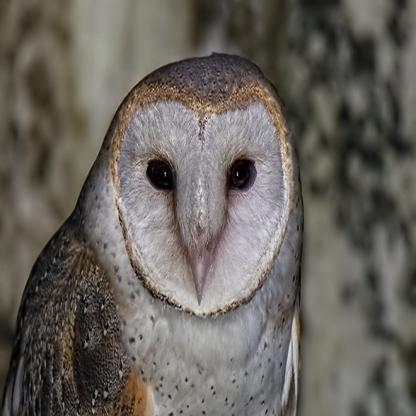Burung: (0, 54, 306, 415)
